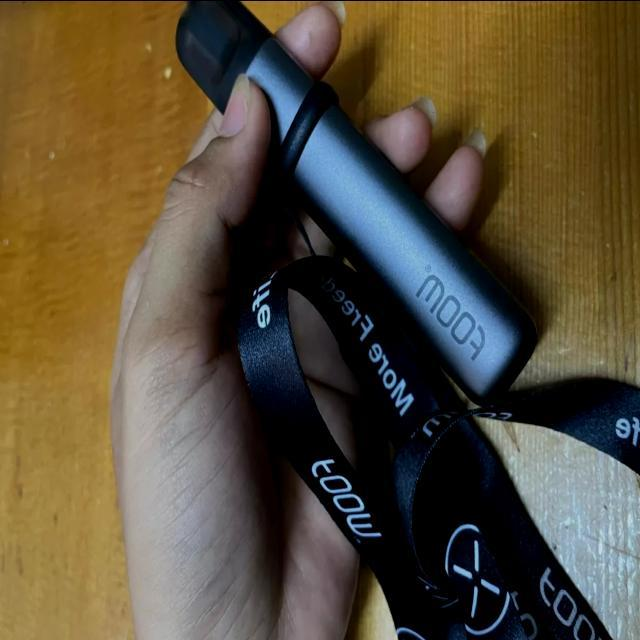Hazard: (166, 0, 543, 407)
